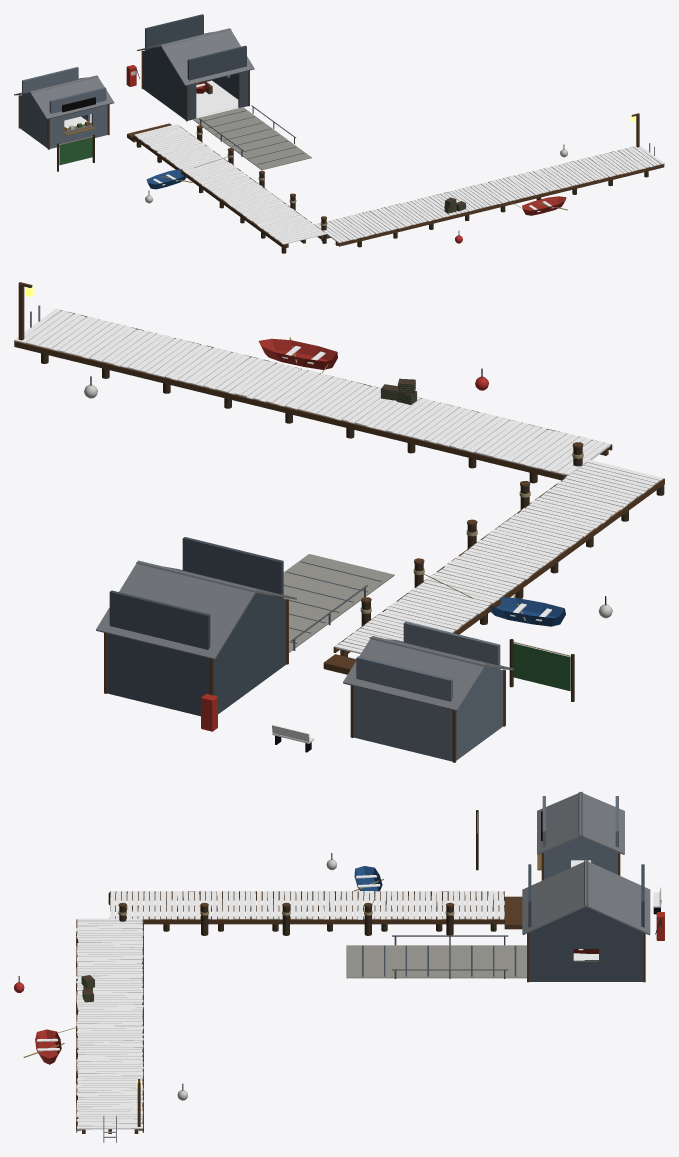
Rendered from tf-dock-p3.glb.
3 renders of one model, top to bottom at view 1: azimuth 30°, elevation 25°; view 2: azimuth 150°, elevation 25°; view 3: azimuth 270°, elevation 25°, orthographic. The views are drawn at different scales.
Visible parts, largest first — view 1: tf-dock-p3; view 2: tf-dock-p3; view 3: tf-dock-p3.
Part boxes in pixels (x1=…): tf-dock-p3: x1=14, y1=14, x2=664, y2=253; tf-dock-p3: x1=14, y1=282, x2=664, y2=762; tf-dock-p3: x1=14, y1=791, x2=664, y2=1142.
Bounding box in the file's own units: 38.15 × 5.03 × 35.81.
